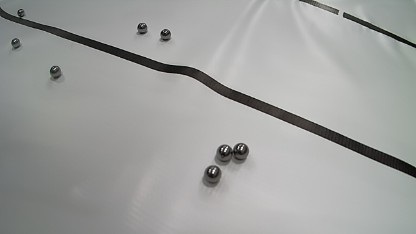ironball: (203, 165, 221, 183), (233, 142, 249, 160), (216, 144, 232, 161), (49, 65, 61, 78), (160, 28, 171, 40), (137, 22, 147, 34), (11, 38, 20, 48), (17, 9, 25, 17)
